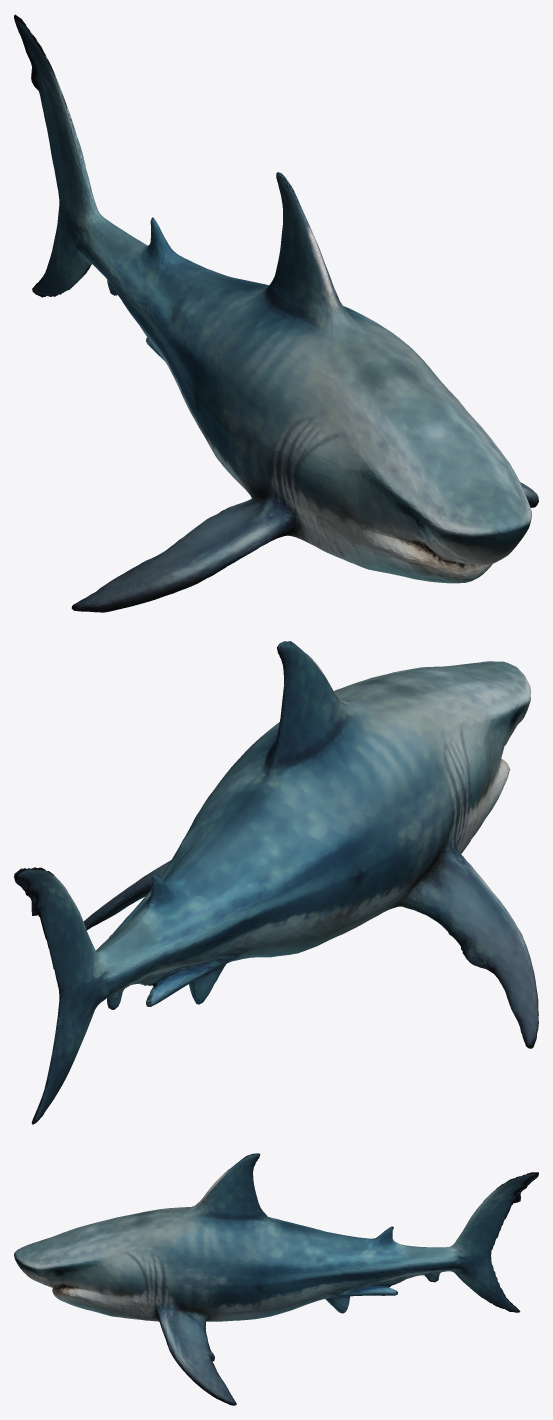
The model's file is shark.glb.
The picture shows the model from 3 angles, top to bottom: view 1: azimuth 30°, elevation 25°; view 2: azimuth 150°, elevation 25°; view 3: azimuth 270°, elevation 25°; orthographic projection. The views are drawn at different scales.
Visible parts, largest first — view 1: world; view 2: world; view 3: world.
Boxes of the visible parts, x1,y1,x2,y2 form: world: (14,14,538,612); world: (14,641,538,1124); world: (14,1153,538,1405).
Bounding box in the file's own units: 0.5365 × 0.4069 × 1.
Materials: 1 (1 with a texture image).
